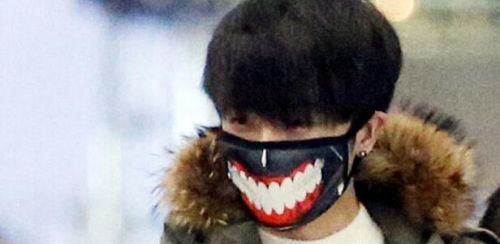OK: (222, 99, 347, 224)
